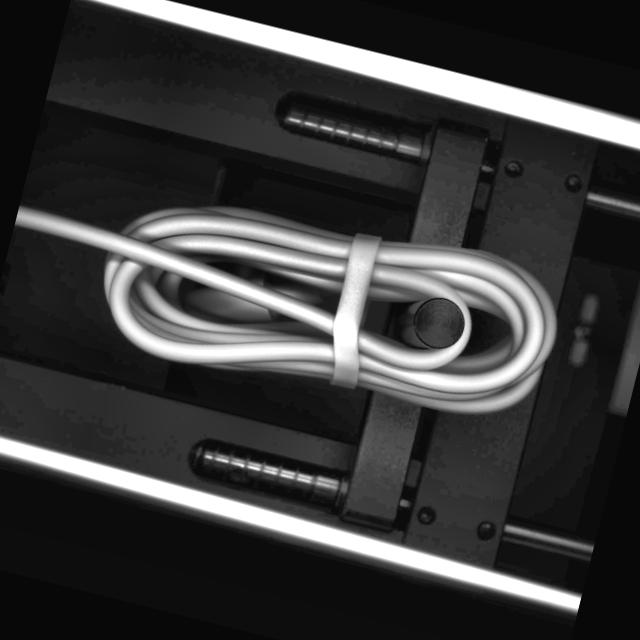Cable: (0, 132, 578, 454)
